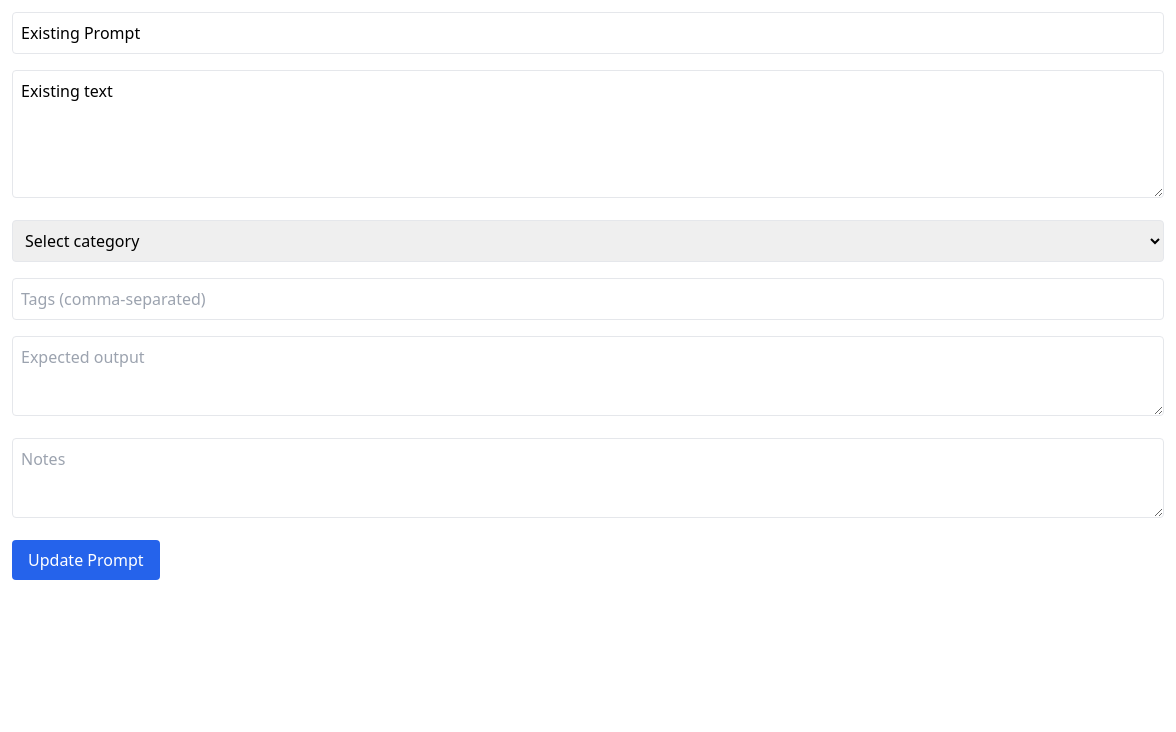
Test: PromptForm › enables auto-save for existing prompts
In the field with test id "prompt-title-input": (588, 33) [12,12,1164,54], type " Updated"
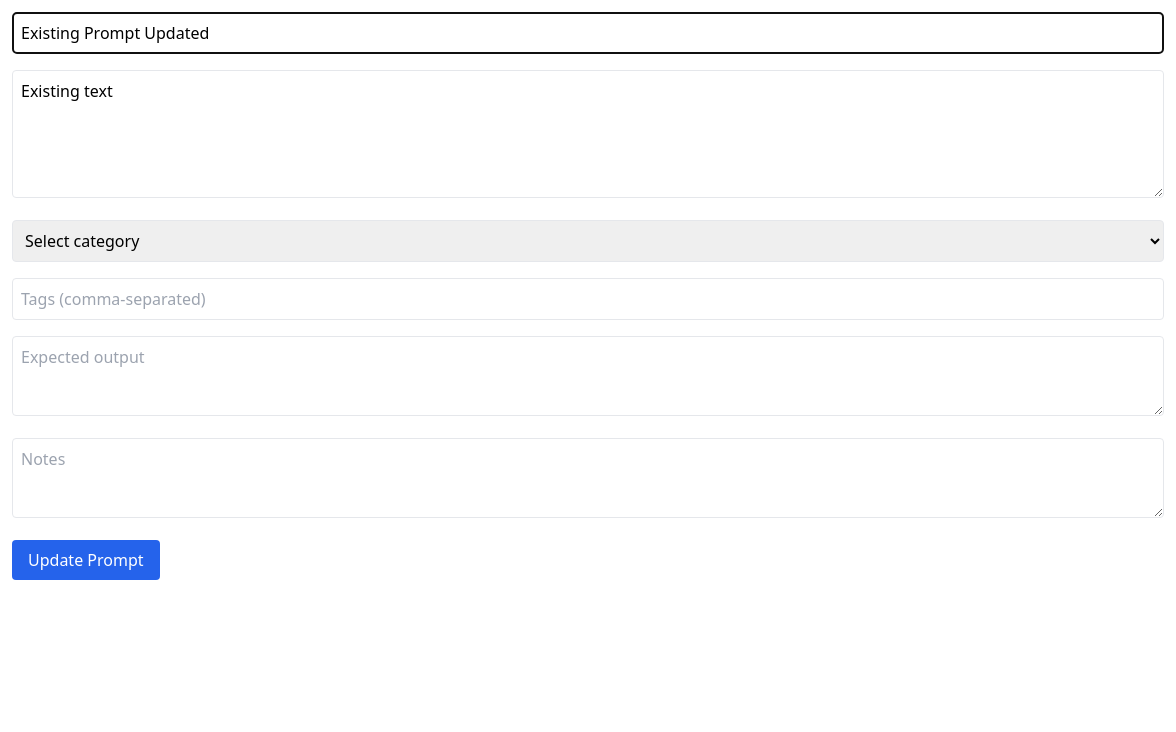
Expected: the button "Update Prompt" is shown, [12,540,160,580]
Expected: the field showing "Existing Prompt Updated" is shown, [12,12,1164,54]
